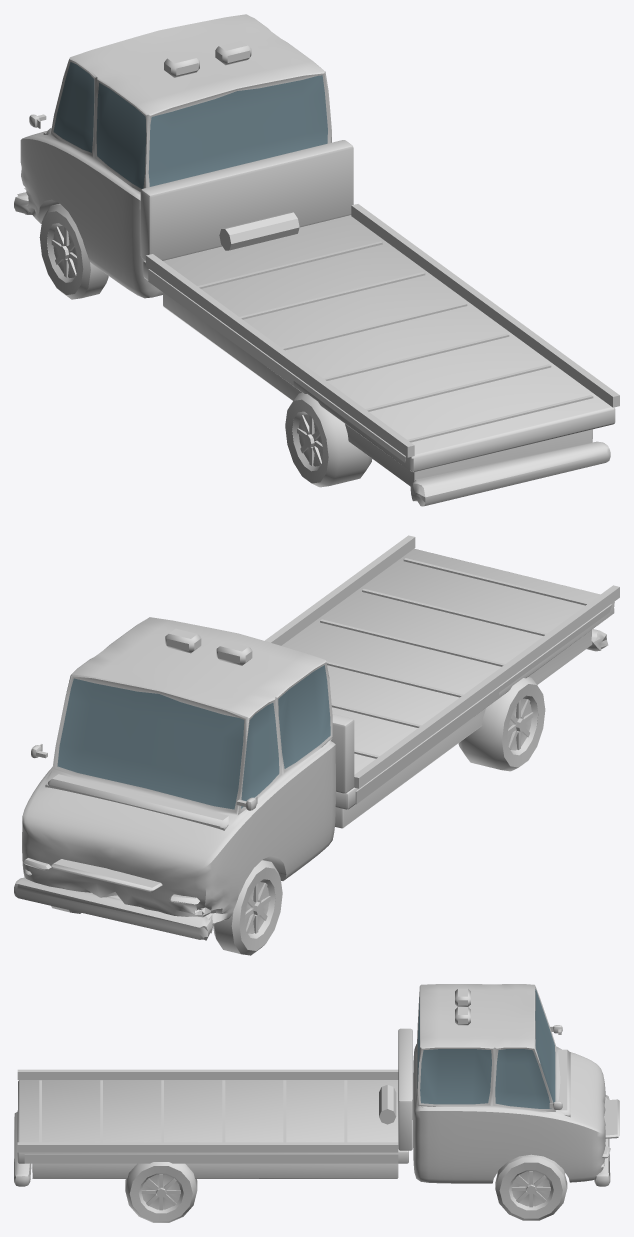
Rendered from car_tow_dmg2.glb.
3 views of the same model, one above another, from view 1: azimuth 30°, elevation 25°; view 2: azimuth 150°, elevation 25°; view 3: azimuth 270°, elevation 25° (orthographic). The views are drawn at different scales.
Parts seen in each view (by area): view 1: car_tow_dmg2; view 2: car_tow_dmg2; view 3: car_tow_dmg2.
Boxes of the visible parts, x1=… form: car_tow_dmg2: x1=14, y1=14, x2=619, y2=506; car_tow_dmg2: x1=14, y1=535, x2=619, y2=955; car_tow_dmg2: x1=14, y1=984, x2=619, y2=1222.
Size of the model in its own units: 2.6 by 2.85 by 8.43.
